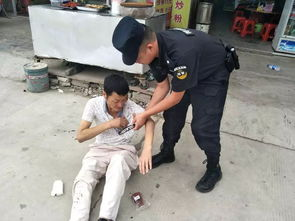fall: (41, 71, 163, 219)
